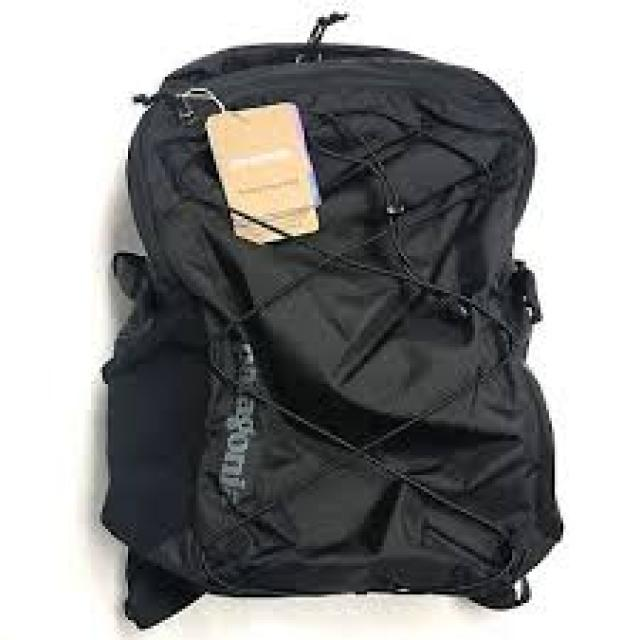backpack: (97, 8, 563, 626)
